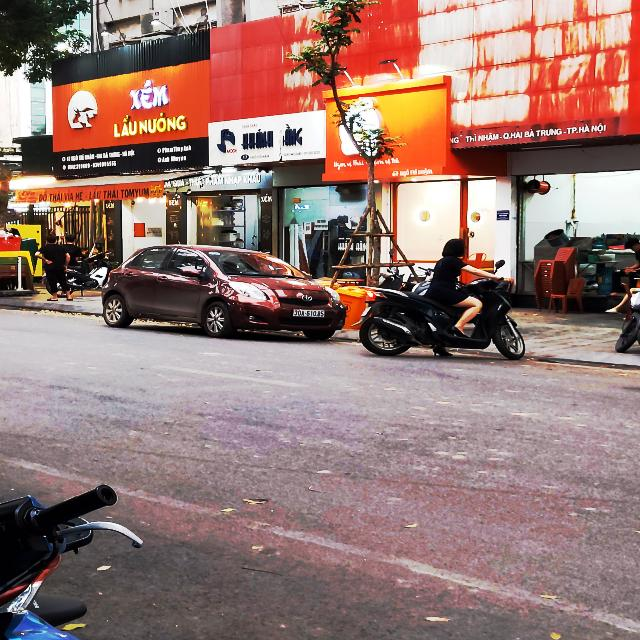license_plate: (294, 309, 326, 319)
